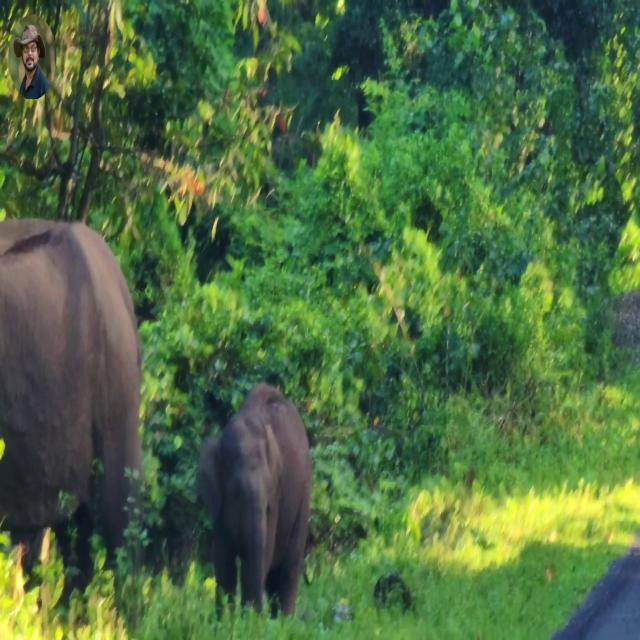Elephant: (0, 216, 143, 591), (194, 381, 313, 620)
